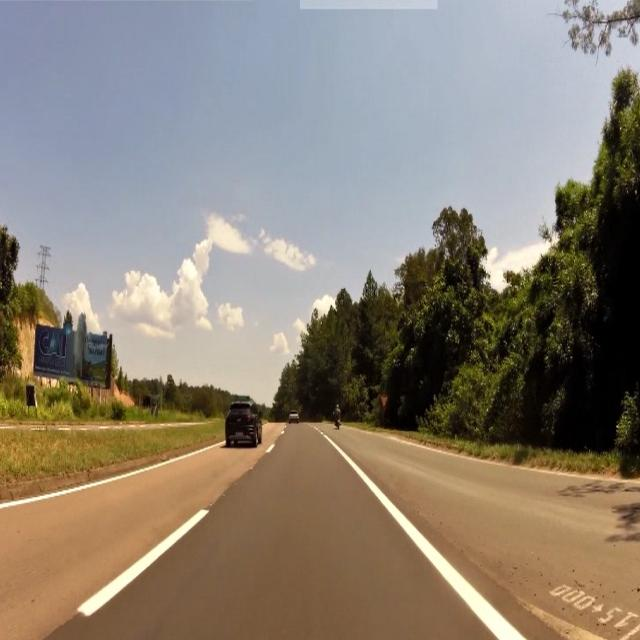R-2: (378, 394, 391, 408)
